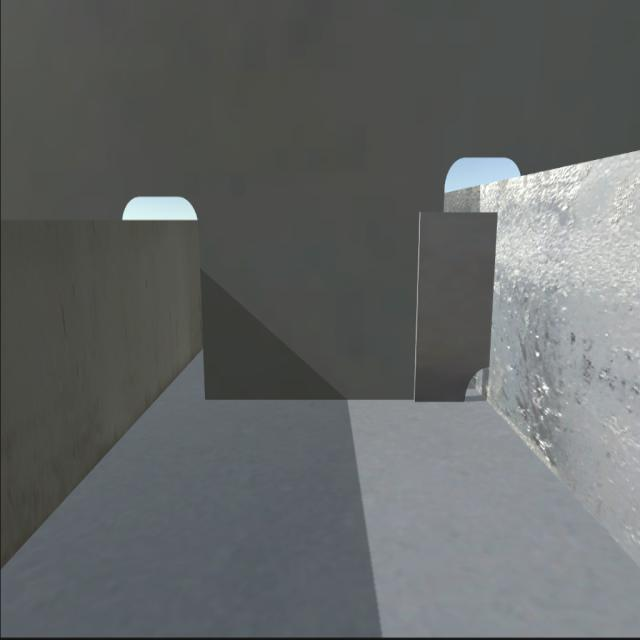fillet_hole: (460, 362, 491, 403)
fillet_yong_jeop_jang: (200, 387, 463, 408)
longi_yong_jeop_jang: (482, 209, 498, 373)
plate_CP01: (416, 207, 490, 405)
